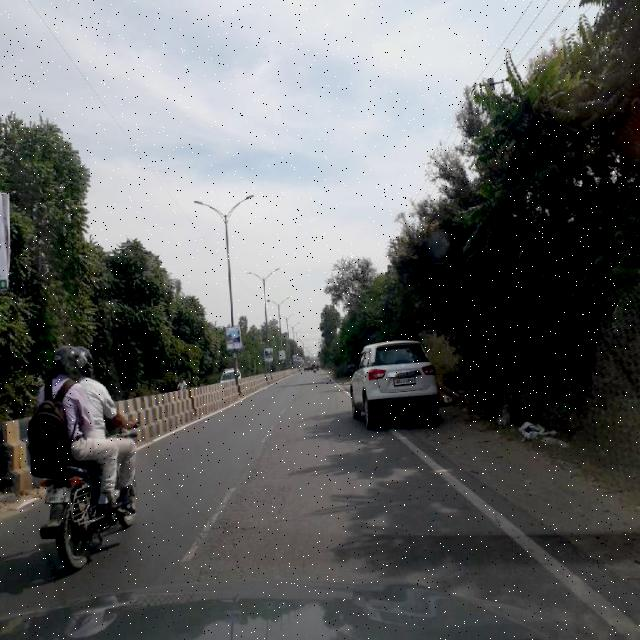D20: (189, 423, 295, 575)
